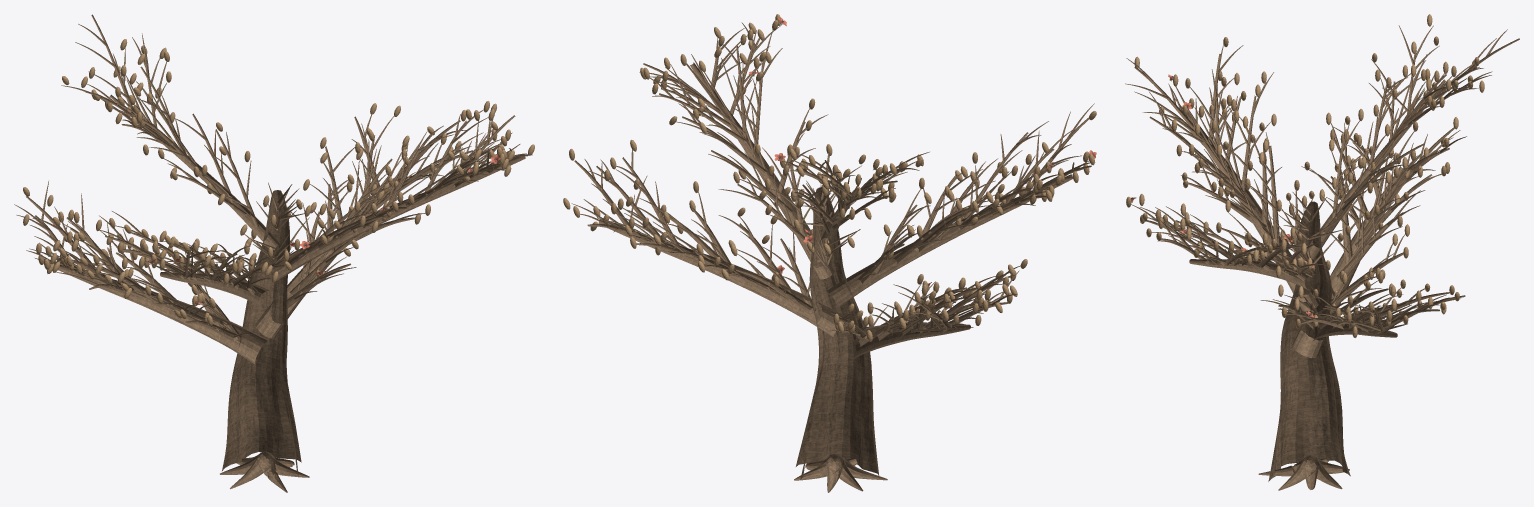
File: Minds_Kapok_Tree_Web_Optimized.glb
3 views of the same model, side by side, from view 1: azimuth 30°, elevation 25°; view 2: azimuth 150°, elevation 25°; view 3: azimuth 270°, elevation 25° (orthographic). The views are drawn at different scales.
Parts seen in each view (by area): view 1: BARK__trunk_branches_and_roots, BUDS__kapok_buds; view 2: BARK__trunk_branches_and_roots, BUDS__kapok_buds; view 3: BARK__trunk_branches_and_roots, BUDS__kapok_buds.
Boxes of the visible parts, x1,y1,x2,y2 form: BARK__trunk_branches_and_roots: (14,14,532,492); BUDS__kapok_buds: (23,39,534,326); BARK__trunk_branches_and_roots: (571,22,1095,492); BUDS__kapok_buds: (563,14,1096,341); BARK__trunk_branches_and_roots: (1125,25,1519,490); BUDS__kapok_buds: (1126,14,1484,337).
Size of the model in its own units: 20.69 by 18.03 by 15.87.
Materials: 1 (1 with a texture image).
